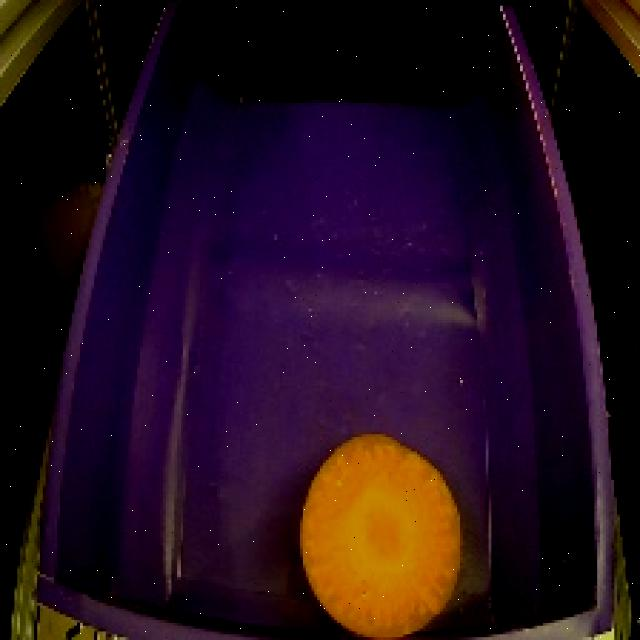carrots: (287, 427, 470, 640)
